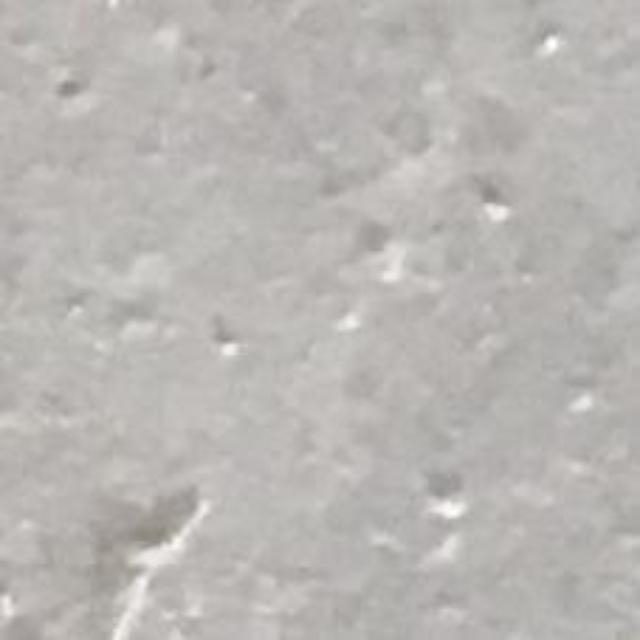peeling plaster: (3, 488, 208, 639)
